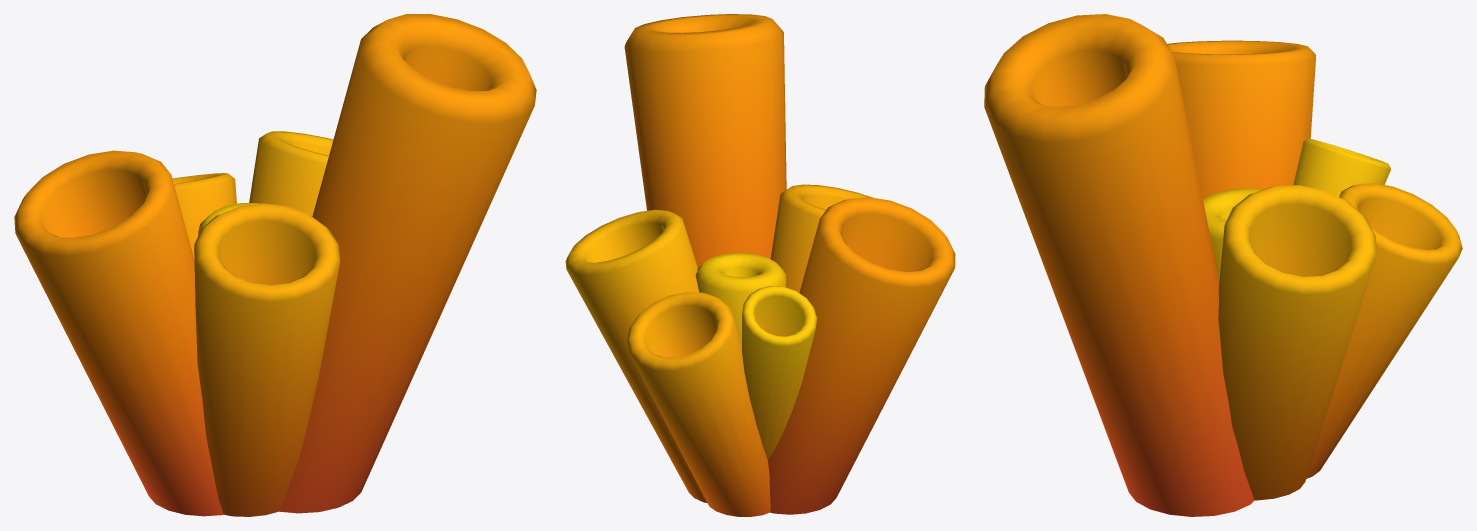
The model's file is Coral_Orange_02.fbx.
The picture shows the model from 3 angles, left to right: view 1: azimuth 30°, elevation 25°; view 2: azimuth 150°, elevation 25°; view 3: azimuth 270°, elevation 25°; orthographic projection. The views are drawn at different scales.
Visible parts, largest first — view 1: Coral_Orange_02; view 2: Coral_Orange_02; view 3: Coral_Orange_02.
Part boxes in pixels (bbox=[...]): Coral_Orange_02: bbox=[14, 14, 536, 516]; Coral_Orange_02: bbox=[565, 14, 955, 516]; Coral_Orange_02: bbox=[984, 14, 1462, 516].
Size of the model in its own units: 64.49 by 67.05 by 58.89.
